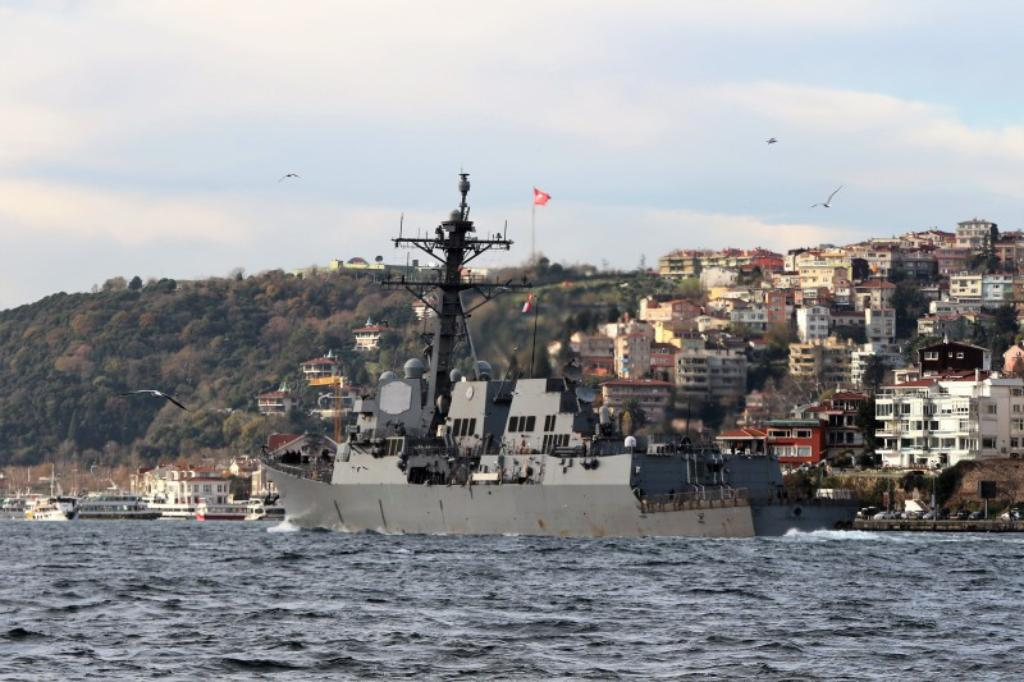Warship: (246, 163, 866, 547)
